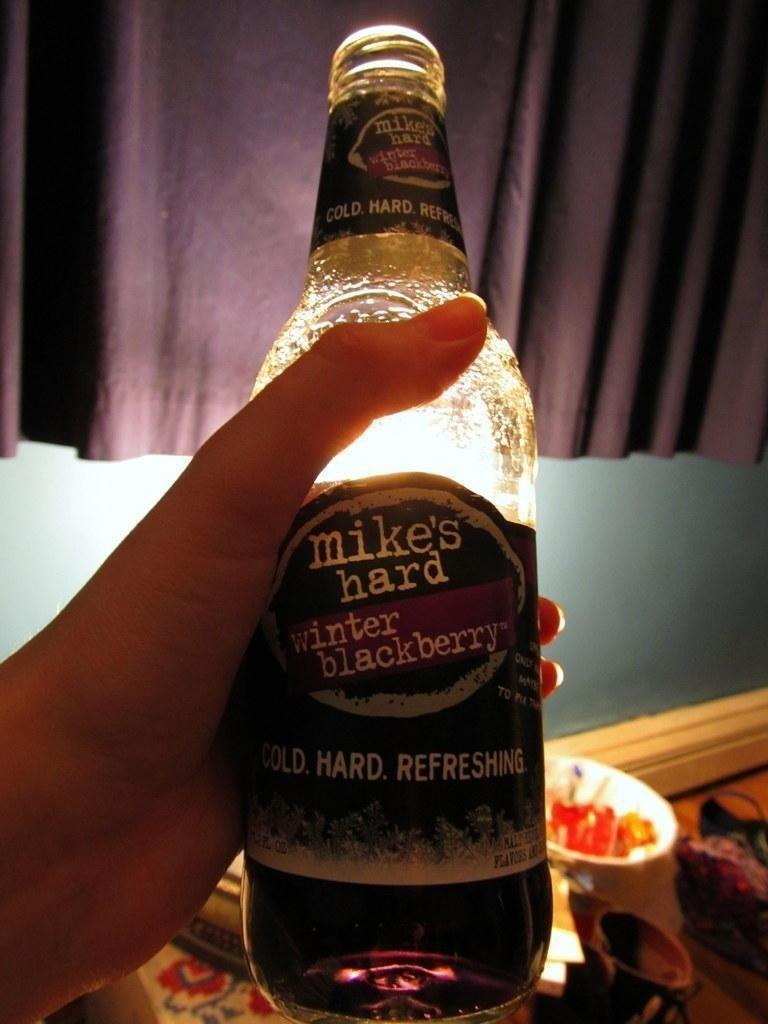bottle-glass: (247, 18, 550, 1023)
